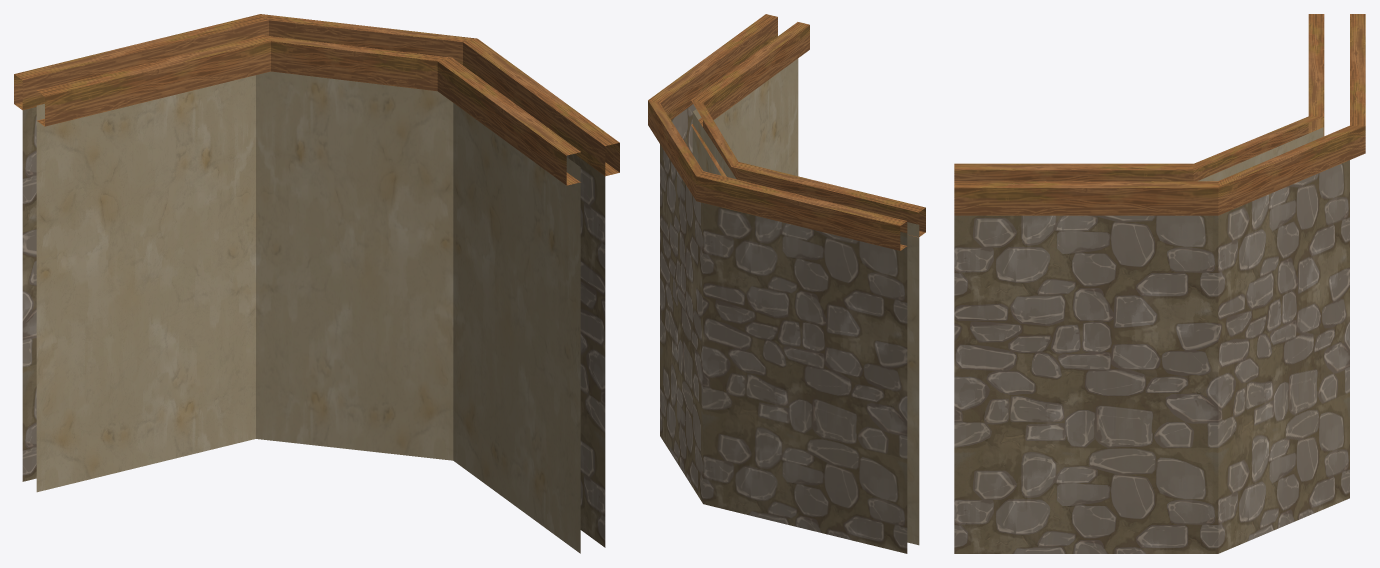
The model's file is Overhang_UnevenBrick_Corner_Front.gltf.
3 renders of one model, left to right at view 1: azimuth 30°, elevation 25°; view 2: azimuth 150°, elevation 25°; view 3: azimuth 270°, elevation 25°, orthographic. The views are drawn at different scales.
Parts seen in each view (by area): view 1: Overhang_UnevenBrick_Corner_Front; view 2: Overhang_UnevenBrick_Corner_Front; view 3: Overhang_UnevenBrick_Corner_Front.
Boxes of the visible parts, box(x1,y1,x2,y2) form: Overhang_UnevenBrick_Corner_Front: box(14, 14, 619, 553); Overhang_UnevenBrick_Corner_Front: box(648, 14, 925, 553); Overhang_UnevenBrick_Corner_Front: box(954, 14, 1365, 553).
Bounding box in the file's own units: 3.12 × 3.12 × 3.12.
3 materials, 3 textured.
